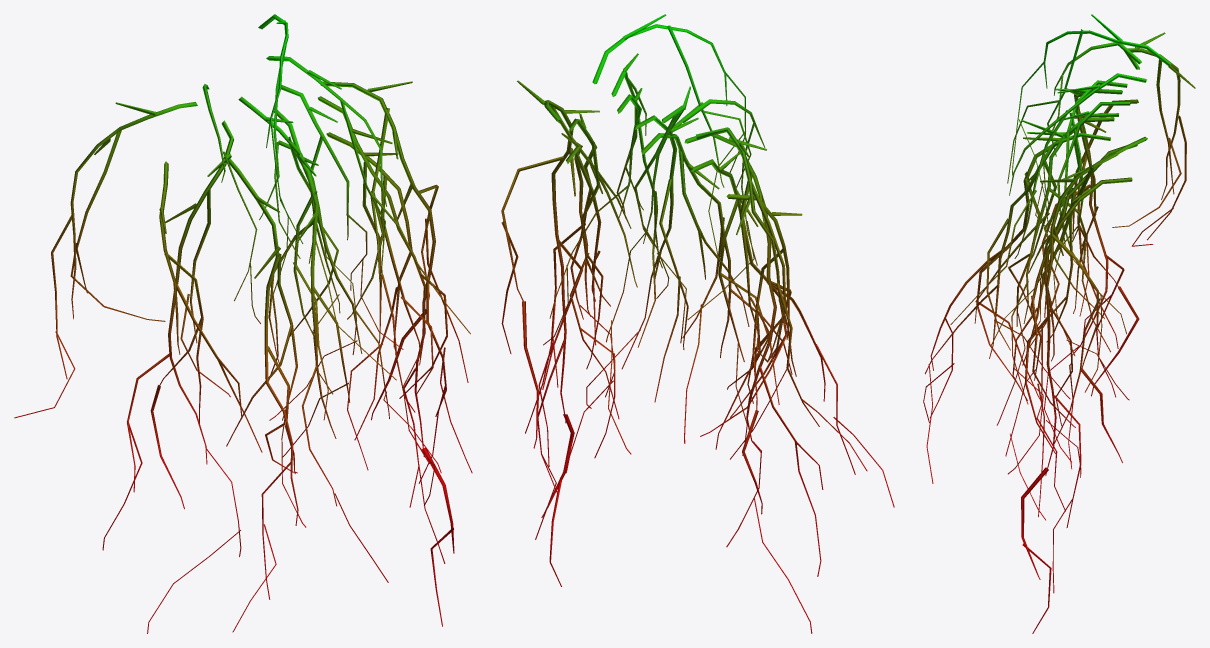
File: Var13_LOD3.fbx
3 renders of one model, left to right at view 1: azimuth 30°, elevation 25°; view 2: azimuth 150°, elevation 25°; view 3: azimuth 270°, elevation 25°, orthographic. The views are drawn at different scales.
Parts seen in each view (by area): view 1: _p7iw_Var13_LOD3; view 2: _p7iw_Var13_LOD3; view 3: _p7iw_Var13_LOD3.
Part boxes in pixels (box(x1,y1,x2,y2)): _p7iw_Var13_LOD3: box(14, 14, 472, 633); _p7iw_Var13_LOD3: box(501, 14, 894, 633); _p7iw_Var13_LOD3: box(923, 14, 1195, 633).
Size of the model in its own units: 116 by 169 by 74.54.
